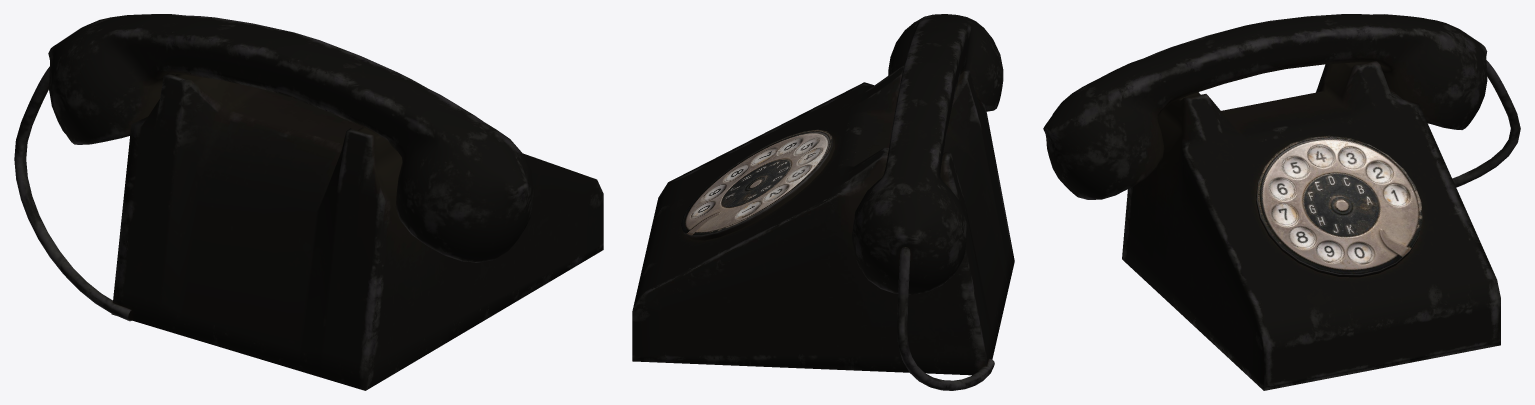
Rendered from Phone.fbx.
The picture shows the model from 3 angles, left to right: view 1: azimuth 30°, elevation 25°; view 2: azimuth 150°, elevation 25°; view 3: azimuth 270°, elevation 25°; orthographic projection. The views are drawn at different scales.
Parts seen in each view (by area): view 1: M3DDRPhone.Shape; view 2: M3DDRPhone.Shape; view 3: M3DDRPhone.Shape.
Boxes of the visible parts, box(x1,y1,x2,y2) form: M3DDRPhone.Shape: box(14, 14, 603, 390); M3DDRPhone.Shape: box(632, 14, 1014, 390); M3DDRPhone.Shape: box(1043, 14, 1520, 390).
Size of the model in its own units: 4.49 by 2.71 by 4.96.
